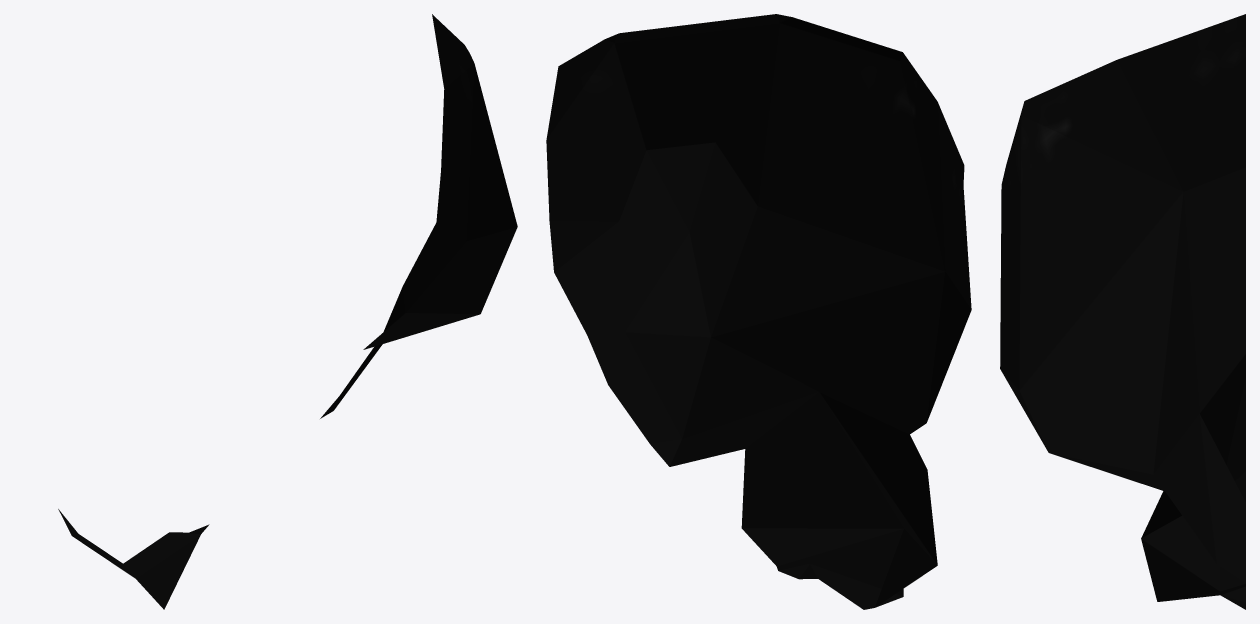
3 views of the same model, side by side, from view 1: azimuth 30°, elevation 25°; view 2: azimuth 150°, elevation 25°; view 3: azimuth 270°, elevation 25° (orthographic). The views are drawn at different scales.
Size of the model in its own units: 0.2827 by 0.3085 by 0.1286.
1 material, 1 textured.
